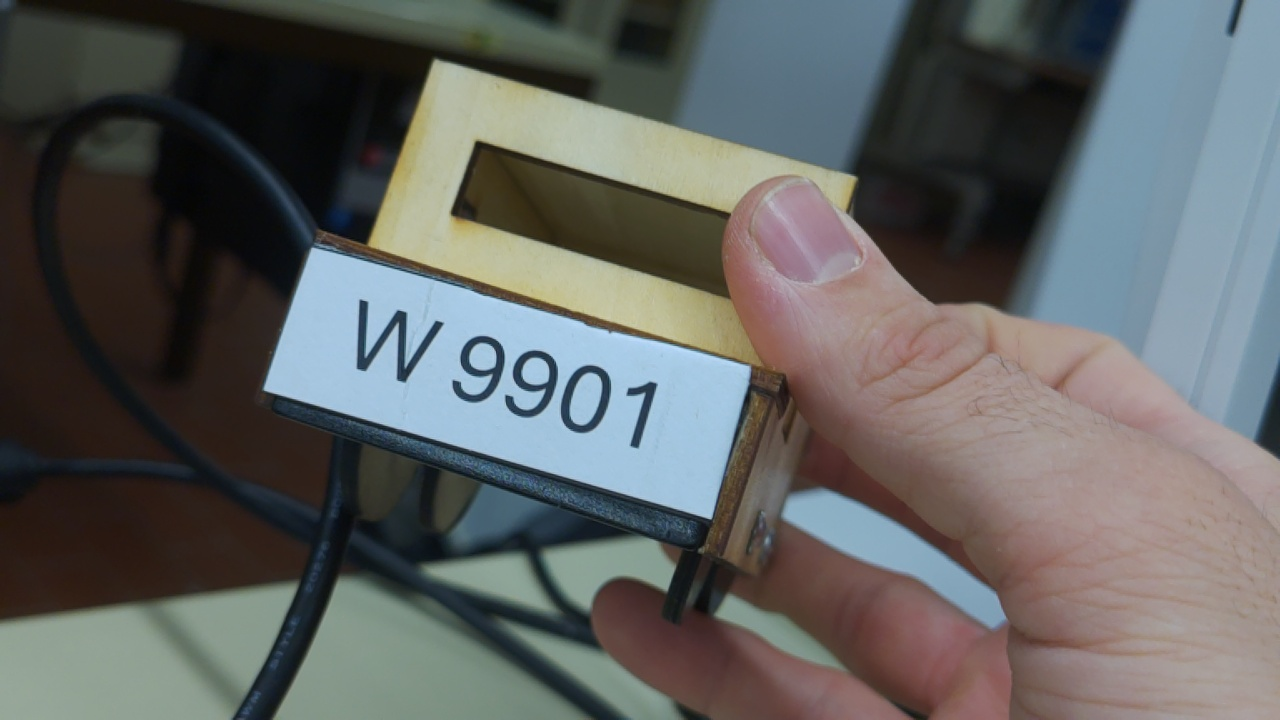license_plate: (247, 226, 757, 540)
